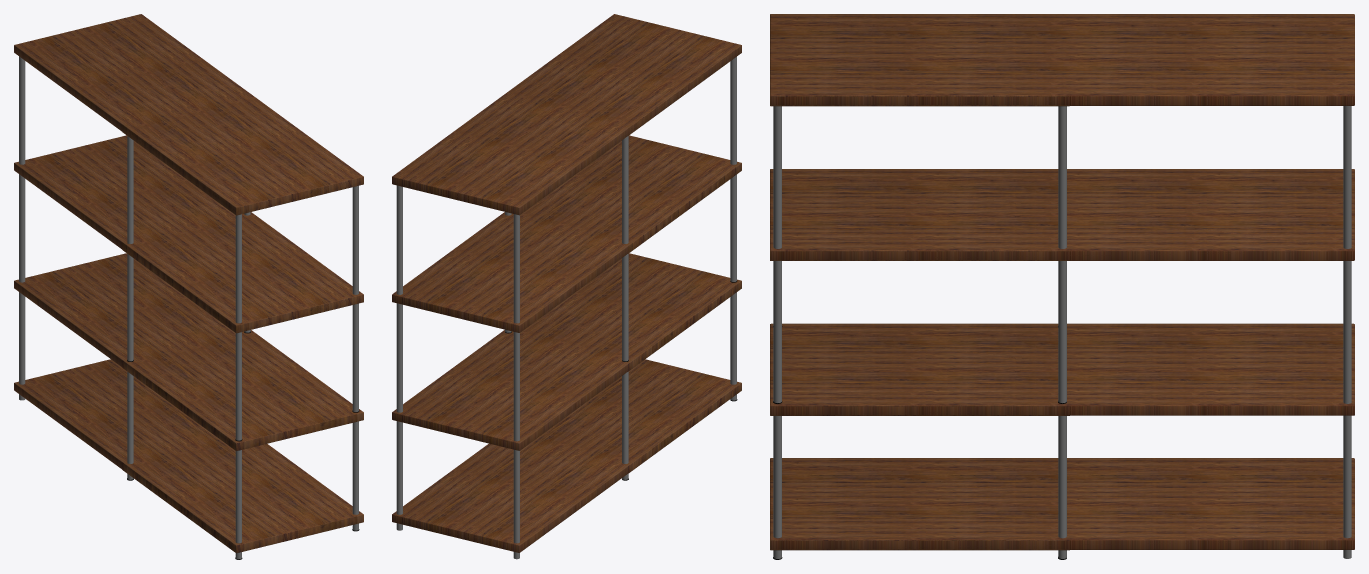
File: rack.glb
3 views of the same model, side by side, from view 1: azimuth 30°, elevation 25°; view 2: azimuth 150°, elevation 25°; view 3: azimuth 270°, elevation 25° (orthographic). The views are drawn at different scales.
Visible parts, largest first — view 1: 06-tabla, 05-tabla, 04-tabla-sup, 04-tabla-inf, 03-caño, 02-caños, 01-tabla-sup, 01-tabla-inf, 02-tabla, 01-caño, 03-tabla, 06-caños (+2 smaller); view 2: 06-tabla, 04-tabla-sup, 05-tabla, 04-tabla-inf, 06-caños, 05-caños, 04-caños, 01-tabla-sup, 01-tabla-inf, 02-tabla, 03-caño, 02-caños (+1 smaller); view 3: 06-tabla, 04-tabla-sup, 05-tabla, 04-tabla-inf, 06-caños, 05-caños, 04-caños, 03-tabla, 01-tabla-inf, 01-tabla-sup, 02-tabla.
Part boxes in pixels (x1,y1,x2,y2): 06-tabla: [14, 14, 362, 214]; 05-tabla: [14, 135, 363, 325]; 04-tabla-sup: [14, 253, 362, 443]; 04-tabla-inf: [14, 359, 363, 545]; 03-caño: [127, 136, 358, 323]; 02-caños: [127, 254, 358, 440]; 01-tabla-sup: [122, 360, 363, 451]; 01-tabla-inf: [122, 462, 363, 553]; 02-tabla: [122, 242, 363, 333]; 01-caño: [127, 372, 358, 559]; 03-tabla: [122, 124, 363, 215]; 06-caños: [19, 56, 25, 164]; 06-tabla: [392, 14, 741, 215]; 04-tabla-sup: [392, 253, 740, 450]; 05-tabla: [392, 135, 740, 332]; 04-tabla-inf: [392, 359, 740, 552]; 06-caños: [396, 59, 734, 323]; 05-caños: [396, 176, 734, 441]; 04-caños: [396, 294, 734, 559]; 01-tabla-sup: [628, 280, 741, 371]; 01-tabla-inf: [628, 383, 741, 473]; 02-tabla: [628, 163, 741, 253]; 03-caño: [509, 57, 736, 243]; 02-caños: [509, 174, 736, 361]; 06-tabla: [770, 14, 1354, 105]; 04-tabla-sup: [770, 323, 1354, 415]; 05-tabla: [770, 169, 1354, 260]; 04-tabla-inf: [770, 458, 1354, 549]; 06-caños: [774, 106, 1351, 248]; 05-caños: [774, 261, 1351, 403]; 04-caños: [774, 415, 1351, 558]; 03-tabla: [770, 14, 1069, 106]; 01-tabla-inf: [770, 458, 1069, 550]; 01-tabla-sup: [770, 324, 1069, 415]; 02-tabla: [770, 169, 1069, 260].
Bounding box in the file's own units: 0.3407 × 0.9035 × 1.03.
Materials: 15 (6 with a texture image).
